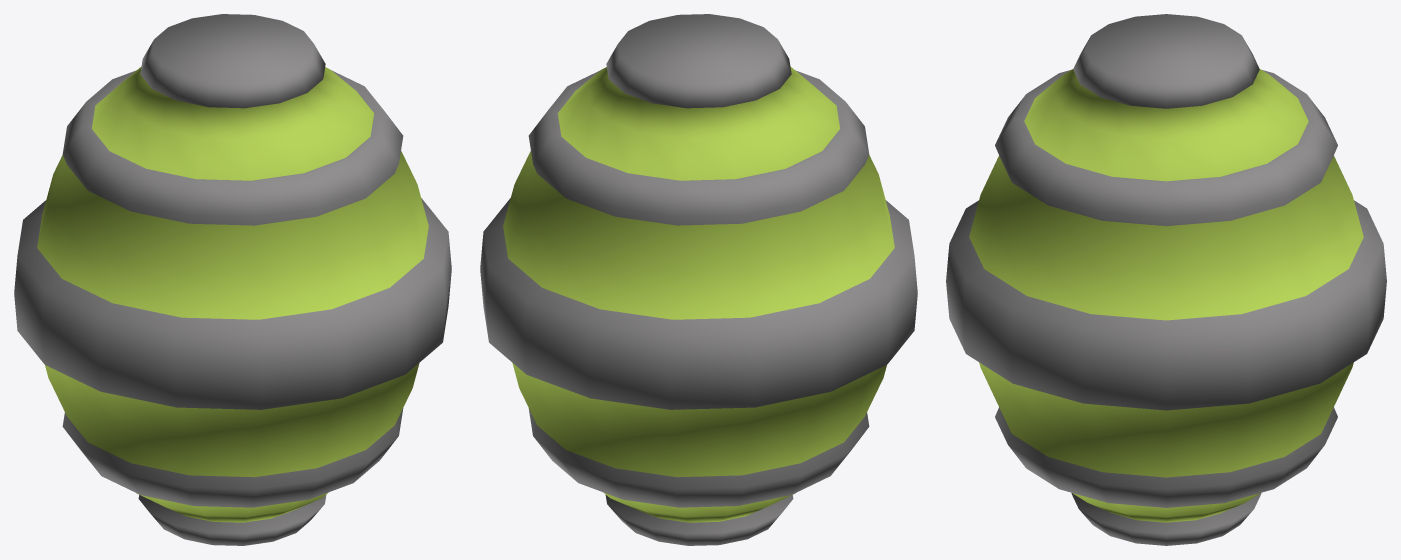
The model's file is HealthCapsuleL.fbx.
3 views of the same model, side by side, from view 1: azimuth 30°, elevation 25°; view 2: azimuth 150°, elevation 25°; view 3: azimuth 270°, elevation 25° (orthographic).
Parts seen in each view (by area): view 1: Sphere; view 2: Sphere; view 3: Sphere.
Boxes of the visible parts, x1=… form: Sphere: x1=14, y1=14, x2=451, y2=545; Sphere: x1=480, y1=14, x2=917, y2=545; Sphere: x1=946, y1=14, x2=1386, y2=545.
Size of the model in its own units: 106 by 123 by 106.
